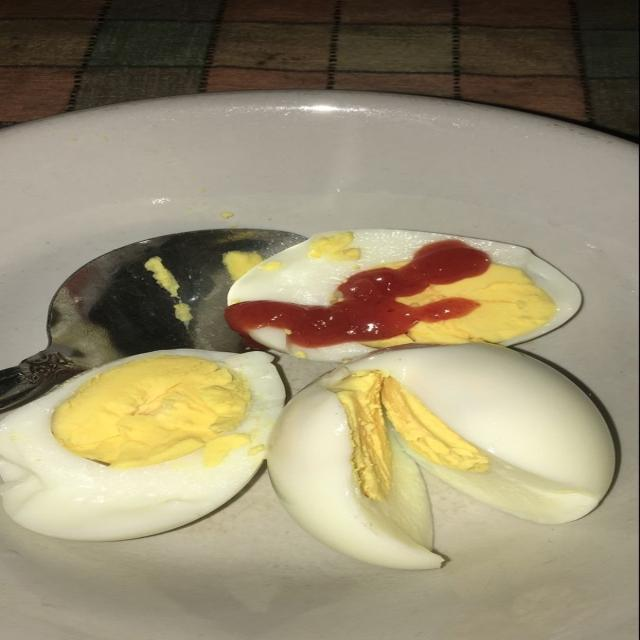eggs: (114, 225, 624, 588)
